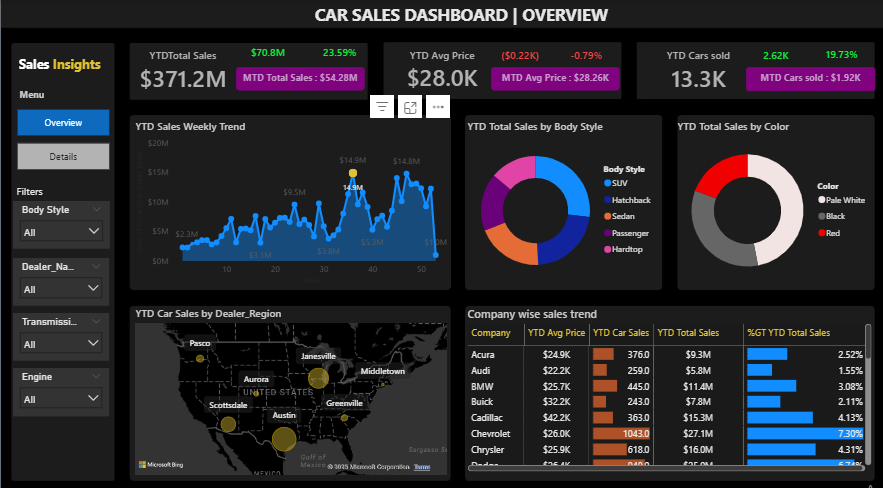

What the dashboard file says about the page in this screenshot:
{"tool":"powerbi","page":{"name":"Overview ","canvas":[1280,720],"ordinal":0},"visuals":[{"type":"card","title":"YTDTotal Sales","fields":{"Values":["car_data.YTD Total Sales"]},"box":[169.2,69.4,190.8,66.5],"z":0},{"type":"card","fields":{"Values":["car_data.Sales difference"]},"box":[341.8,60.8,92.4,32.9],"z":1000},{"type":"card","fields":{"Values":["car_data.YoY Sales Growth"]},"box":[434.2,60.8,115.2,32.9],"z":2000},{"type":"card","fields":{"Values":["car_data.MTD KPI"]},"box":[341.8,97.5,186.1,34.2],"z":3000},{"type":"card","title":"YTD Avg Price","fields":{"Values":["car_data.YTD Avg Price"]},"box":[555.7,69.6,168.4,65.8],"z":4000},{"type":"card","fields":{"Values":["car_data.Avg Price Diff"]},"box":[703.8,60.8,96.2,41.8],"z":5000},{"type":"card","fields":{"Values":["car_data.YoY Avg Price Growth"]},"box":[800,60.8,96.2,41.8],"z":6000},{"type":"card","fields":{"Values":["car_data.MTD Avg Price KPI"]},"box":[710.1,97.5,186.1,34.2],"z":7000},{"type":"card","title":"YTD Cars sold","fields":{"Values":["car_data.YTD Car Sales"]},"box":[925.3,69.4,169.2,66.5],"z":8000},{"type":"card","fields":{"Values":["car_data.Cars sold diff"]},"box":[1074.2,60.7,95.4,41.9],"z":9000},{"type":"card","fields":{"Values":["car_data.YoY Car Sold Growth"]},"box":[1169.6,59.3,95.4,41.9],"z":10000},{"type":"card","fields":{"Values":["car_data.MTD Car Sold KPI"]},"box":[1078.6,96.9,186.5,34.7],"z":11000},{"type":"areaChart","title":"YTD Sales Weekly Trend","fields":{"Category":["Calendar Table.Week"],"Y":["Sum(car_data.Price ($))","car_data.Max point"]},"box":[190.8,172,461.2,244.3],"z":12000},{"type":"slicer","fields":{"Values":["car_data.Body Style"]},"box":[19.2,290.4,140.4,69.2],"z":13000},{"type":"donutChart","fields":{"Y":["car_data.YTD Total Sales"],"Category":["car_data.Color"]},"box":[974.5,172,290.6,244.3],"z":14000},{"type":"map","fields":{"Category":["car_data.Dealer_Region"],"Size":["car_data.YTD Car Sales"]},"box":[190.8,442.4,461.2,248.7],"z":15000},{"type":"tableEx","title":"Company wise sales trend","fields":{"Values":["car_data.Company","car_data.YTD Avg Price","car_data.YTD Car Sales","car_data.YTD Total Sales1","car_data.YTD Total Sales"]},"box":[670.8,442.4,594.2,244.3],"z":16000},{"type":"textbox","box":[439.5,0,461.2,49.2],"z":17000},{"type":"slicer","fields":{"Values":["car_data.Dealer_Name"]},"box":[19.2,373.1,139.4,69.2],"z":18000},{"type":"slicer","fields":{"Values":["car_data.Transmission"]},"box":[19.2,452.9,139.4,69.2],"z":19000},{"type":"slicer","fields":{"Values":["car_data.Engine"]},"box":[19.2,531.7,139.4,70.2],"z":20000},{"type":"textbox","box":[18.8,260.2,59.3,30.4],"z":21000},{"type":"textbox","box":[16.5,75.3,145.9,41.2],"z":22000},{"type":"textbox","box":[23.1,122.9,66.5,34.7],"z":23000},{"type":"donutChart","fields":{"Y":["car_data.YTD Total Sales"],"Category":["car_data.Body Style"]},"box":[670.6,171.8,284.7,244.7],"z":24000},{"type":"pageNavigator","box":[24.6,157.6,134.5,88.2],"z":24001}]}

Visuals, with their boxes on the page's 1280x720 design canvas (x1, y1, x2, y2). These are canvas units, not pixel positions in the 883x488 screenshot, which may show the page scaled, cropped or inside an application window:
"YTDTotal Sales" card: pyautogui.locateOnScreen(169, 69, 360, 136)
card - car_data.Sales difference: pyautogui.locateOnScreen(342, 61, 434, 94)
card - car_data.YoY Sales Growth: pyautogui.locateOnScreen(434, 61, 549, 94)
card - car_data.MTD KPI: pyautogui.locateOnScreen(342, 98, 528, 132)
"YTD Avg Price" card: pyautogui.locateOnScreen(556, 70, 724, 135)
card - car_data.Avg Price Diff: pyautogui.locateOnScreen(704, 61, 800, 103)
card - car_data.YoY Avg Price Growth: pyautogui.locateOnScreen(800, 61, 896, 103)
card - car_data.MTD Avg Price KPI: pyautogui.locateOnScreen(710, 98, 896, 132)
"YTD Cars sold" card: pyautogui.locateOnScreen(925, 69, 1094, 136)
card - car_data.Cars sold diff: pyautogui.locateOnScreen(1074, 61, 1170, 103)
card - car_data.YoY Car Sold Growth: pyautogui.locateOnScreen(1170, 59, 1265, 101)
card - car_data.MTD Car Sold KPI: pyautogui.locateOnScreen(1079, 97, 1265, 132)
"YTD Sales Weekly Trend" areaChart: pyautogui.locateOnScreen(191, 172, 652, 416)
slicer - car_data.Body Style: pyautogui.locateOnScreen(19, 290, 160, 360)
donutChart - car_data.YTD Total Sales x car_data.Color: pyautogui.locateOnScreen(974, 172, 1265, 416)
map - car_data.Dealer_Region x car_data.YTD Car Sales: pyautogui.locateOnScreen(191, 442, 652, 691)
"Company wise sales trend" tableEx: pyautogui.locateOnScreen(671, 442, 1265, 687)
textbox: pyautogui.locateOnScreen(440, 0, 901, 49)
slicer - car_data.Dealer_Name: pyautogui.locateOnScreen(19, 373, 159, 442)
slicer - car_data.Transmission: pyautogui.locateOnScreen(19, 453, 159, 522)
slicer - car_data.Engine: pyautogui.locateOnScreen(19, 532, 159, 602)
textbox: pyautogui.locateOnScreen(19, 260, 78, 291)
textbox: pyautogui.locateOnScreen(16, 75, 162, 116)
textbox: pyautogui.locateOnScreen(23, 123, 90, 158)
donutChart - car_data.YTD Total Sales x car_data.Body Style: pyautogui.locateOnScreen(671, 172, 955, 416)
pageNavigator: pyautogui.locateOnScreen(25, 158, 159, 246)
